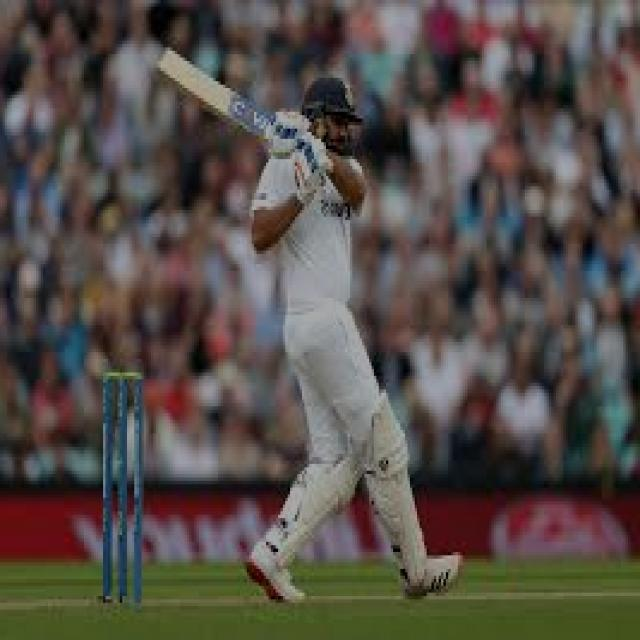toe: (158, 48, 168, 72)
